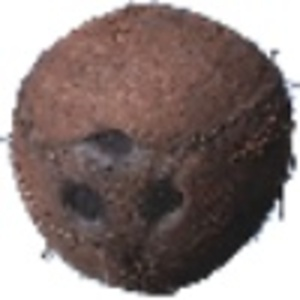coco: (1, 1, 300, 295)
